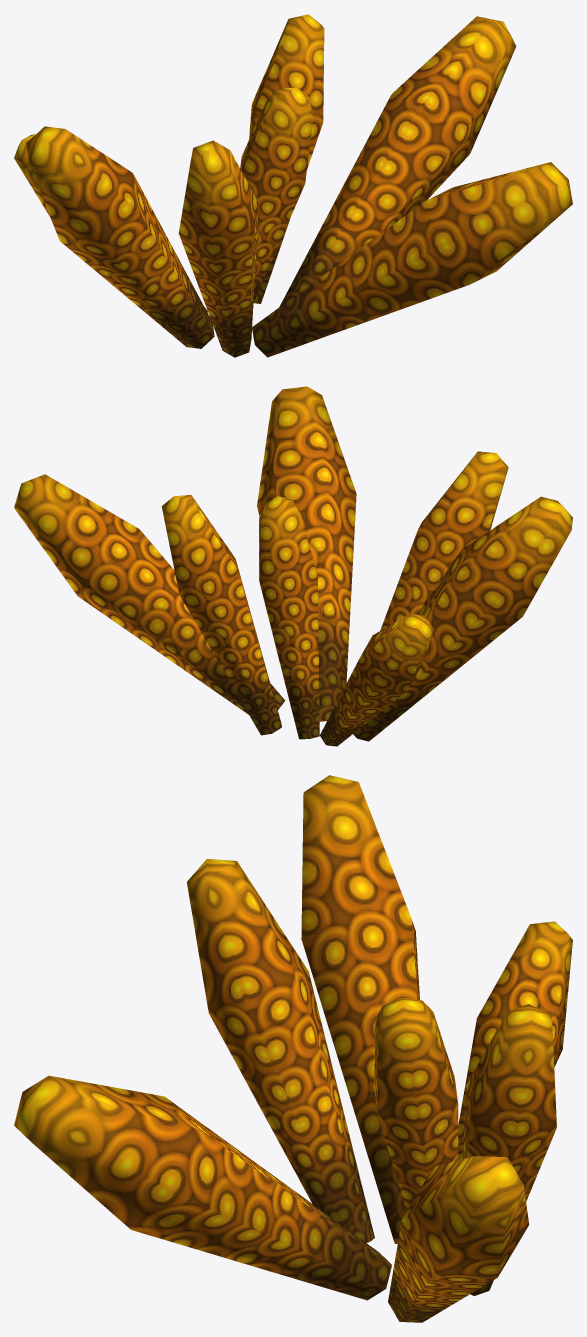
The model's file is Coral_05b.FBX.
3 renders of one model, top to bottom at view 1: azimuth 30°, elevation 25°; view 2: azimuth 150°, elevation 25°; view 3: azimuth 270°, elevation 25°, orthographic. The views are drawn at different scales.
Parts seen in each view (by area): view 1: Coral_05b; view 2: Coral_05b; view 3: Coral_05b.
Part boxes in pixels (left/top/right/bottom): Coral_05b: left=14, top=14, right=572, bottom=357; Coral_05b: left=14, top=386, right=572, bottom=746; Coral_05b: left=14, top=775, right=572, bottom=1322.
Size of the model in its own units: 60.69 by 30.96 by 41.94.
